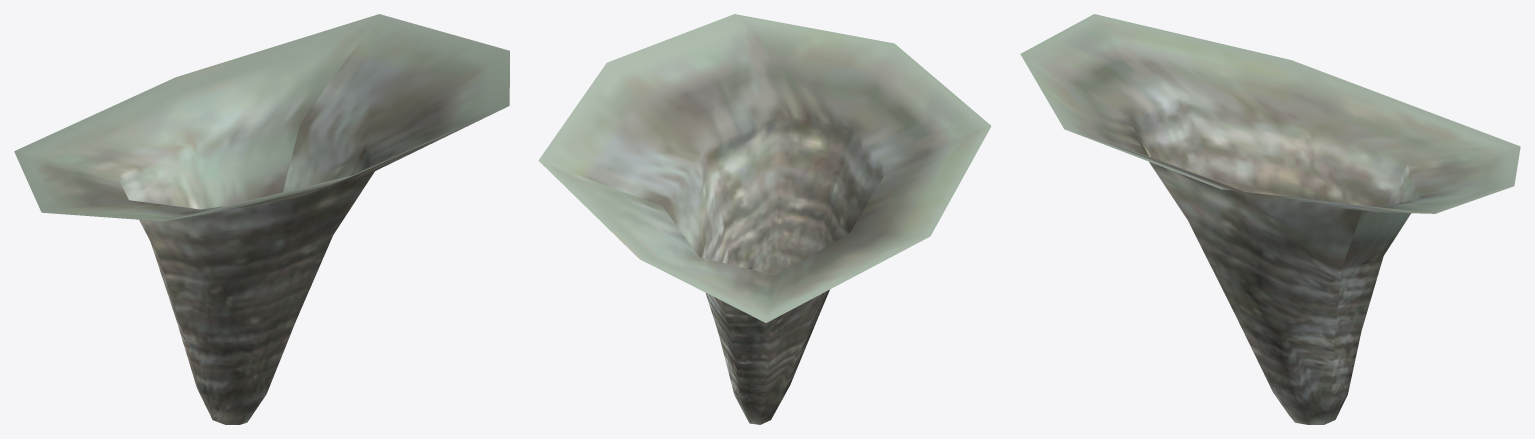
The model's file is TROLLHOLE02_PS-SECRETSTALAG01.fbx.
3 views of the same model, side by side, from view 1: azimuth 30°, elevation 25°; view 2: azimuth 150°, elevation 25°; view 3: azimuth 270°, elevation 25° (orthographic). The views are drawn at different scales.
Visible parts, largest first — view 1: TROLLHOLE02_PS-SECRETSTALAG01; view 2: TROLLHOLE02_PS-SECRETSTALAG01; view 3: TROLLHOLE02_PS-SECRETSTALAG01.
Part boxes in pixels (<box>): TROLLHOLE02_PS-SECRETSTALAG01: <box>14,14,509,424</box>; TROLLHOLE02_PS-SECRETSTALAG01: <box>538,14,991,424</box>; TROLLHOLE02_PS-SECRETSTALAG01: <box>1020,14,1520,424</box>.
Bounding box in the file's own units: 22368 × 18244 × 22417.
1 material, 1 textured.
